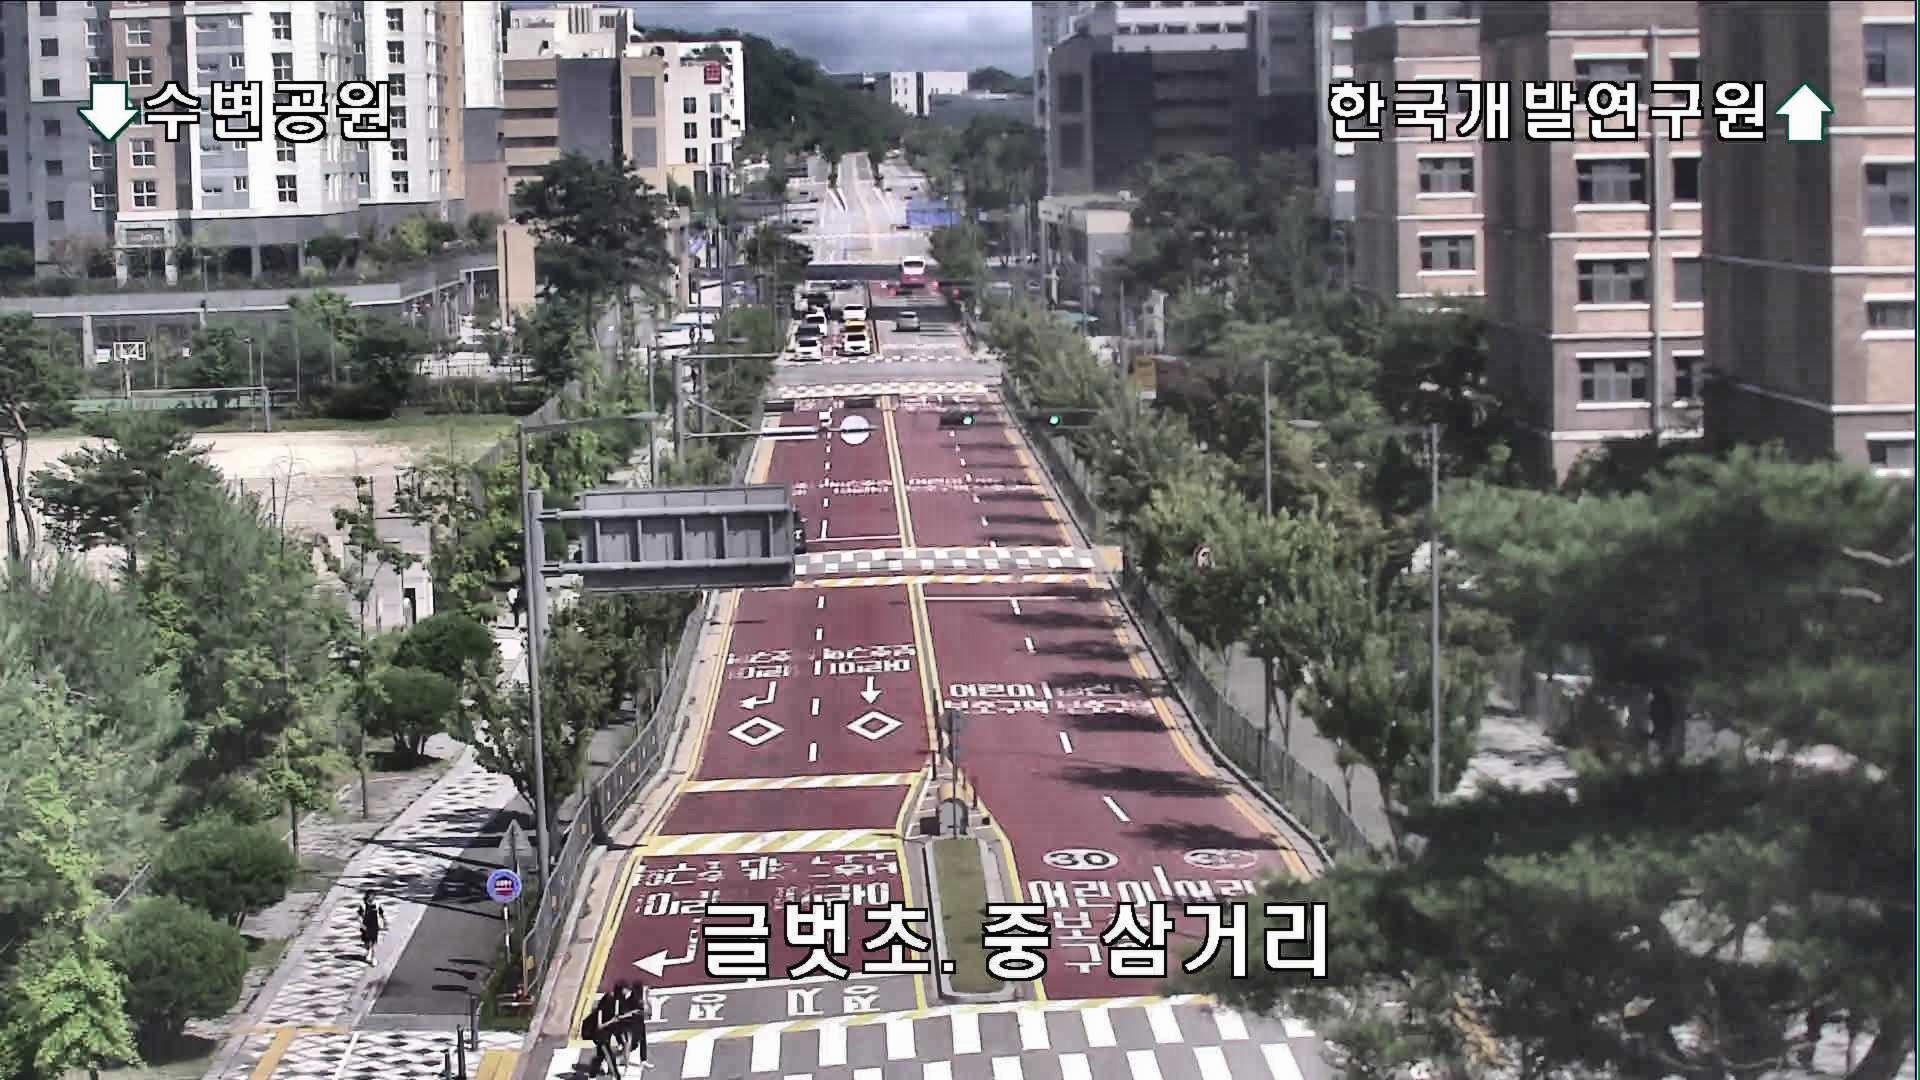crosswalk: (578, 992, 622, 1080), (613, 978, 641, 1076), (629, 980, 655, 1072)
sidewalk: (356, 889, 389, 969)
